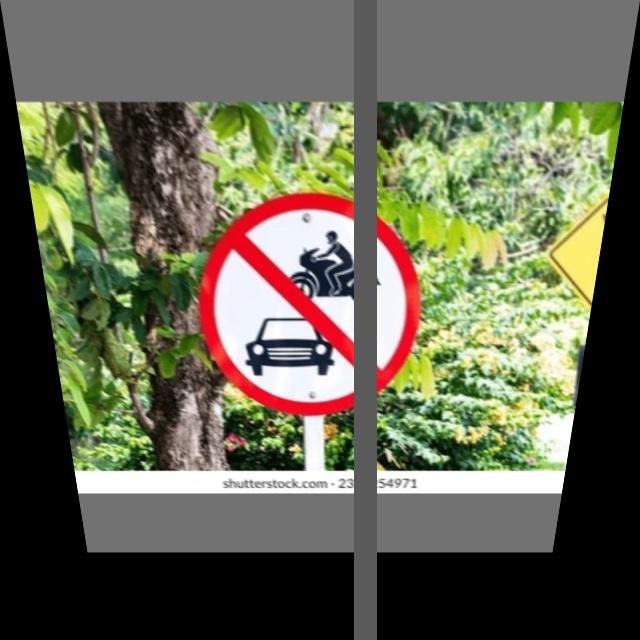All_Motor_Vehicles_Prohibited: (194, 195, 420, 409)
